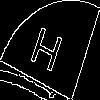H: (25, 25, 65, 83)
